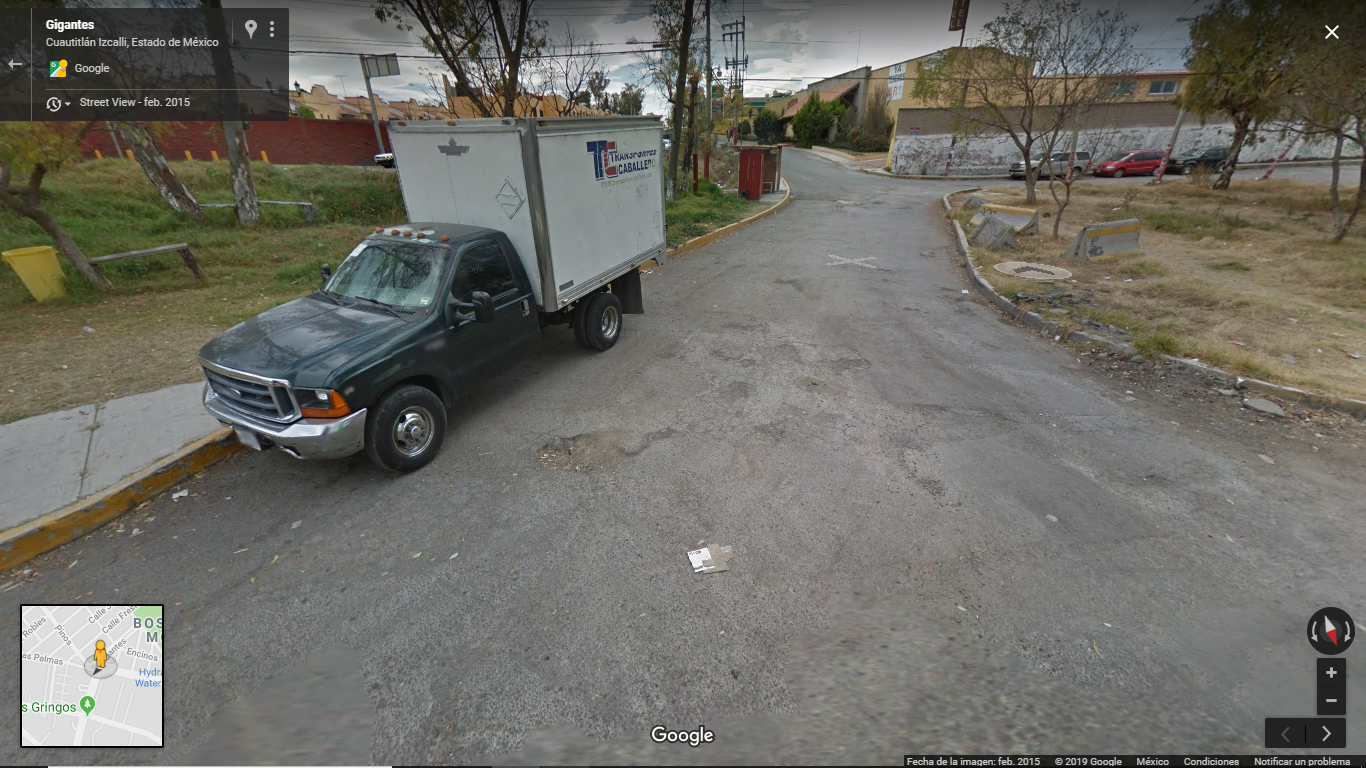pothole: (840, 390, 1022, 498), (524, 407, 666, 497), (722, 372, 758, 407), (789, 375, 828, 397), (831, 193, 859, 215)
